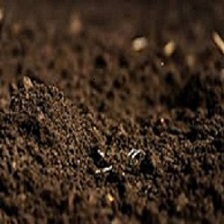clay_soil: (9, 77, 209, 197)
